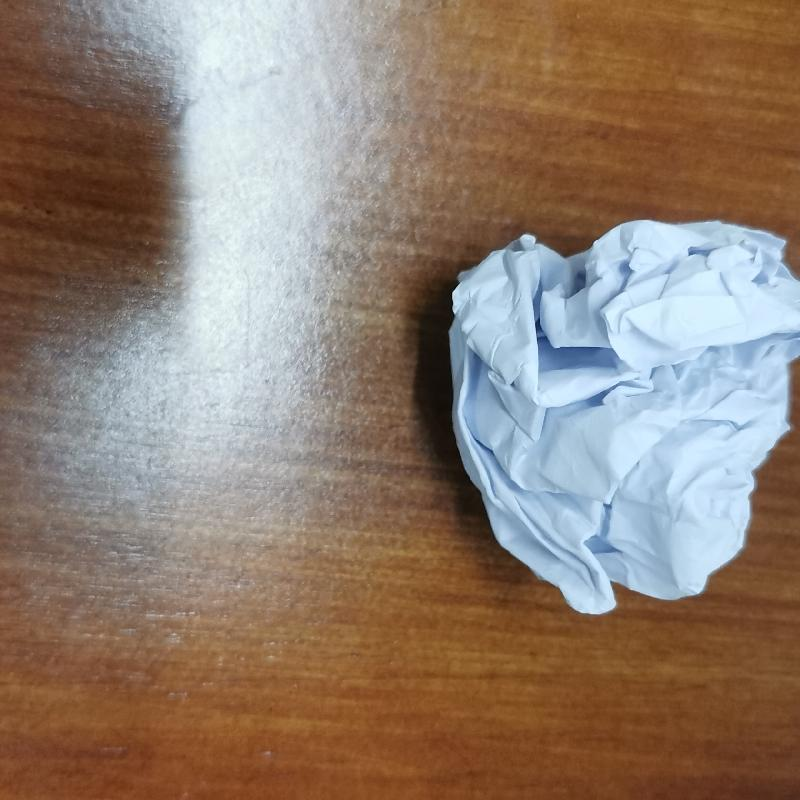spitball: (439, 211, 800, 618)
